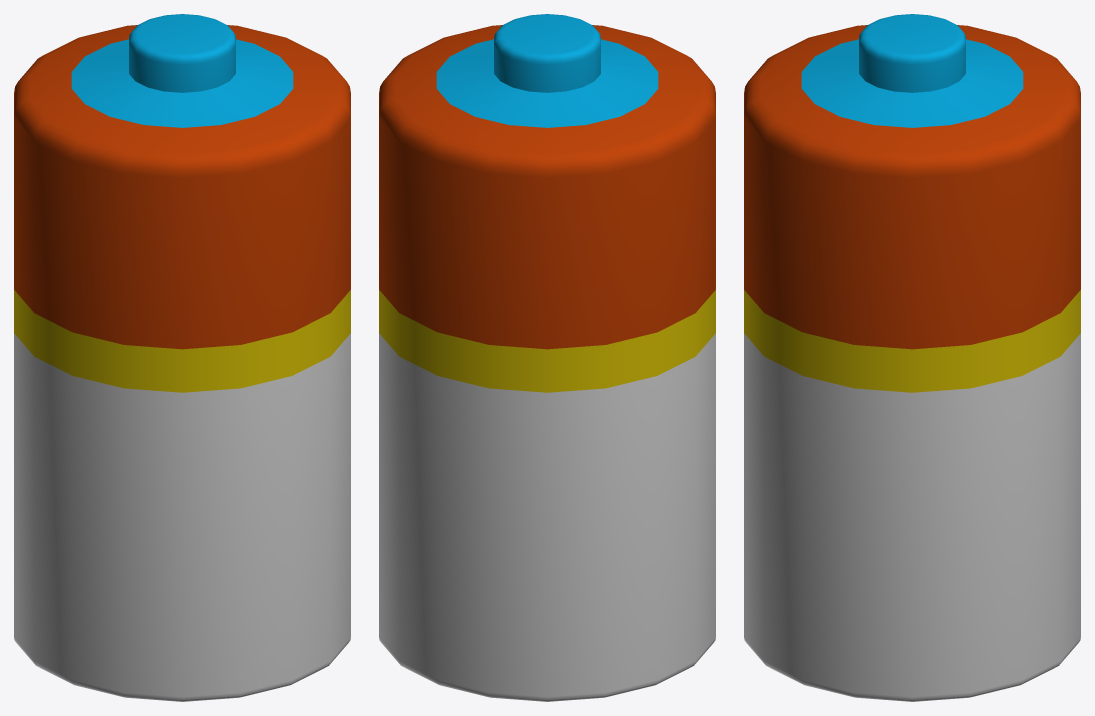
File: energy_low.fbx
The picture shows the model from 3 angles, left to right: view 1: azimuth 30°, elevation 25°; view 2: azimuth 150°, elevation 25°; view 3: azimuth 270°, elevation 25°; orthographic projection.
Visible parts, largest first — view 1: Cylinder001; view 2: Cylinder001; view 3: Cylinder001.
Boxes of the visible parts, <box> form: Cylinder001: <box>14,14,350,701</box>; Cylinder001: <box>379,14,715,701</box>; Cylinder001: <box>744,14,1080,701</box>.
Bounding box in the file's own units: 26.91 × 51.89 × 26.5.
